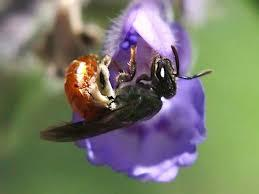Lasioglossum: (39, 38, 199, 155)
